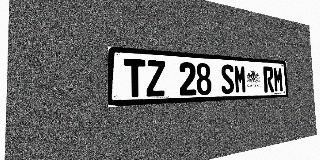2: (179, 62, 196, 96)
8: (196, 63, 212, 95)
M: (234, 65, 247, 94), (273, 67, 284, 92)
R: (263, 66, 274, 93)
S: (221, 64, 235, 94)
T: (124, 59, 146, 98)
Z: (146, 60, 166, 97)
